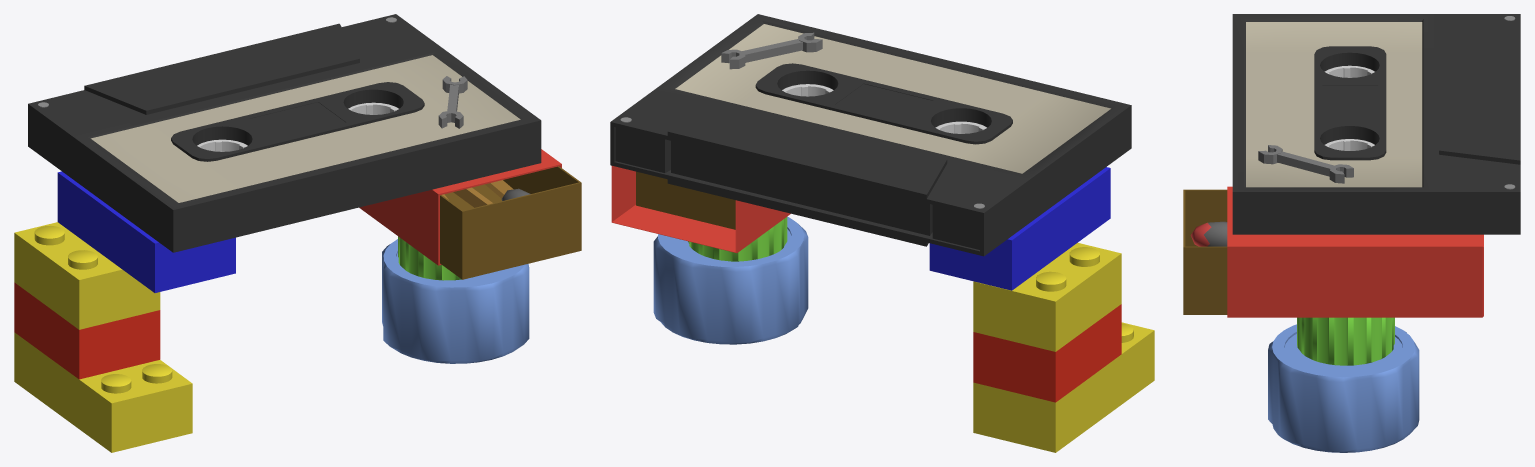
The model's file is workbench.fbx.
The picture shows the model from 3 angles, left to right: view 1: azimuth 30°, elevation 25°; view 2: azimuth 150°, elevation 25°; view 3: azimuth 270°, elevation 25°; orthographic projection. The views are drawn at different scales.
Visible parts, largest first — view 1: Workbench; view 2: Workbench; view 3: Workbench.
Part boxes in pixels (<box>): Workbench: <box>14,14,581,452</box>; Workbench: <box>610,14,1154,452</box>; Workbench: <box>1183,14,1520,452</box>.
Size of the model in its own units: 167 by 91.11 by 110.
